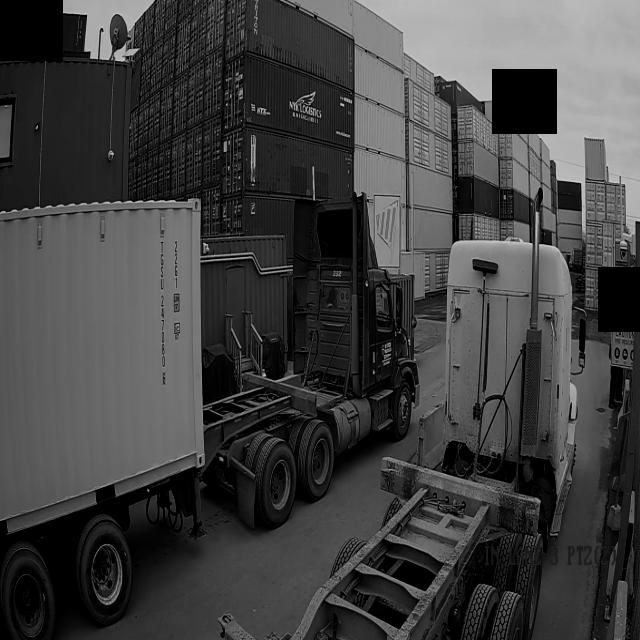container_side_no: (154, 235, 169, 377)
truck_with_container: (0, 194, 418, 640)
truck_without_container: (263, 238, 586, 640)
